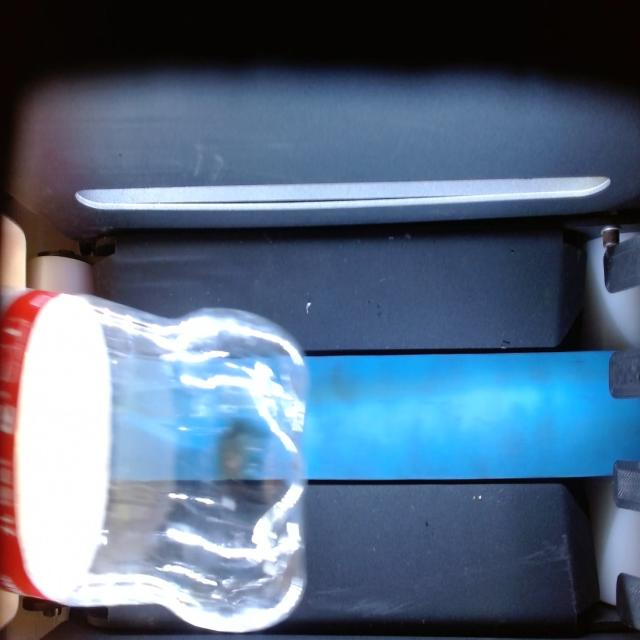bottle: (0, 291, 308, 631)
